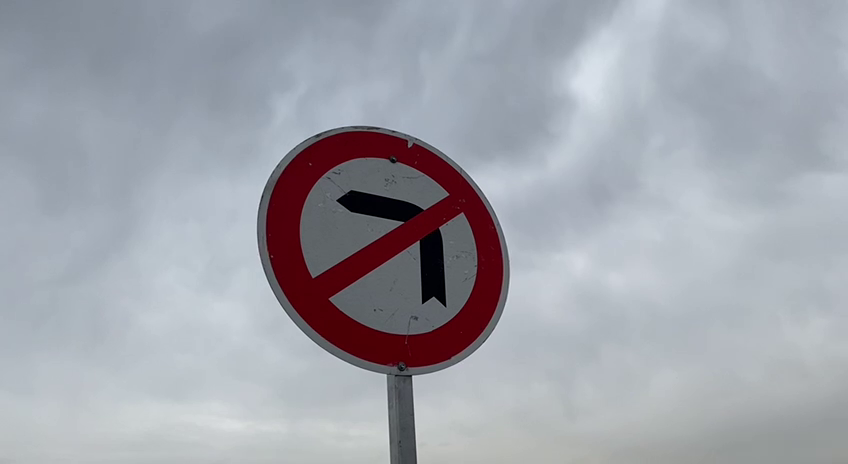noTurnLeft: (245, 117, 522, 382)
